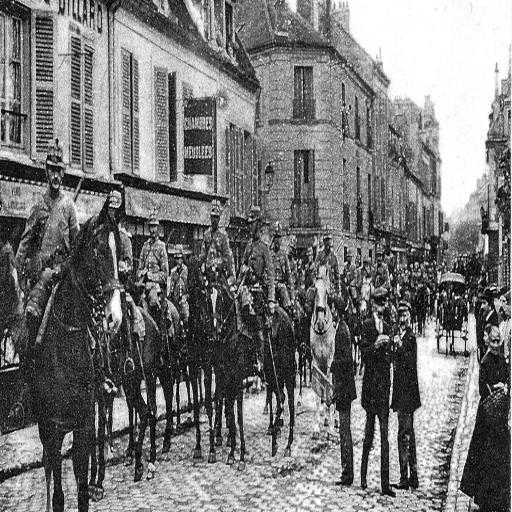horse: (26, 196, 438, 512), (442, 284, 457, 357)
